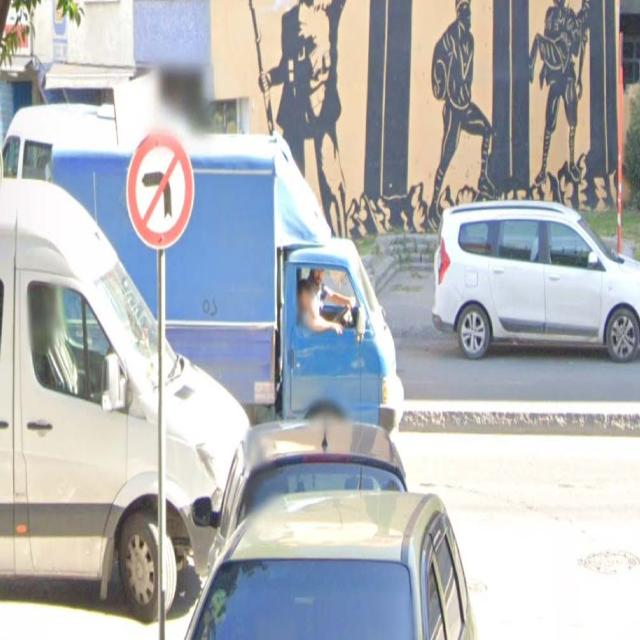soladonulmez: (126, 132, 194, 248)
